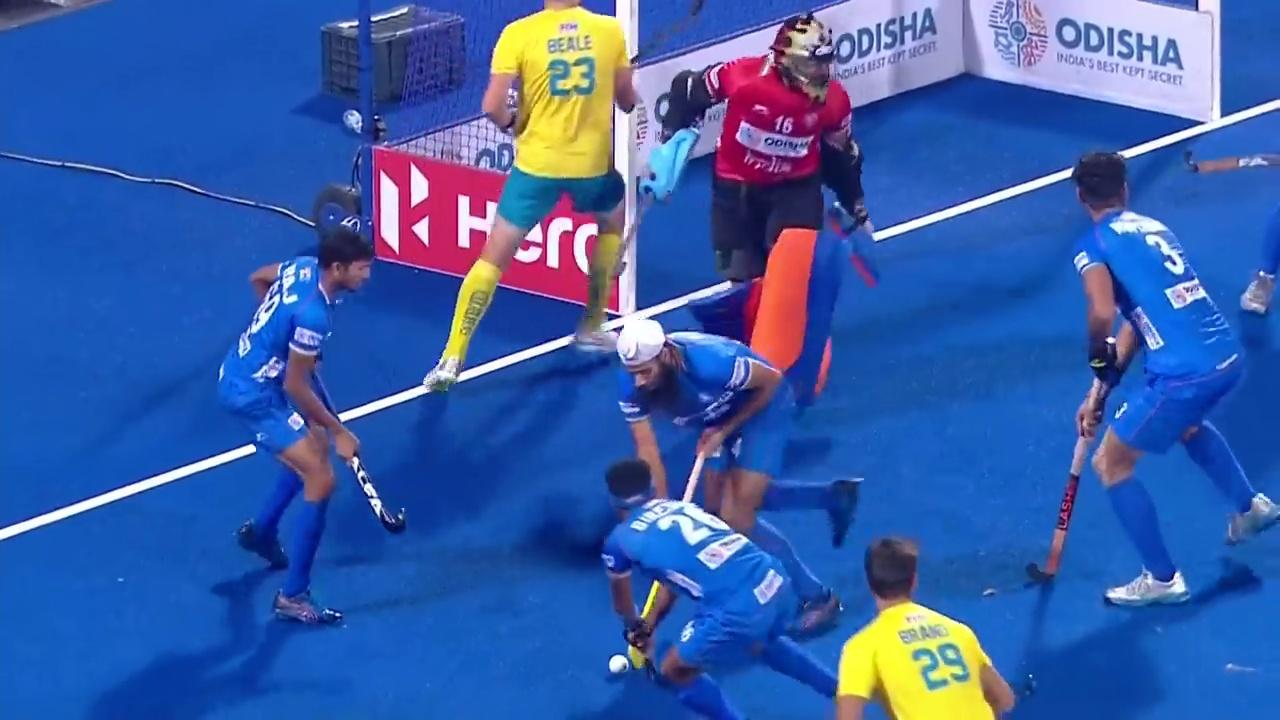ball: (597, 639, 642, 686)
